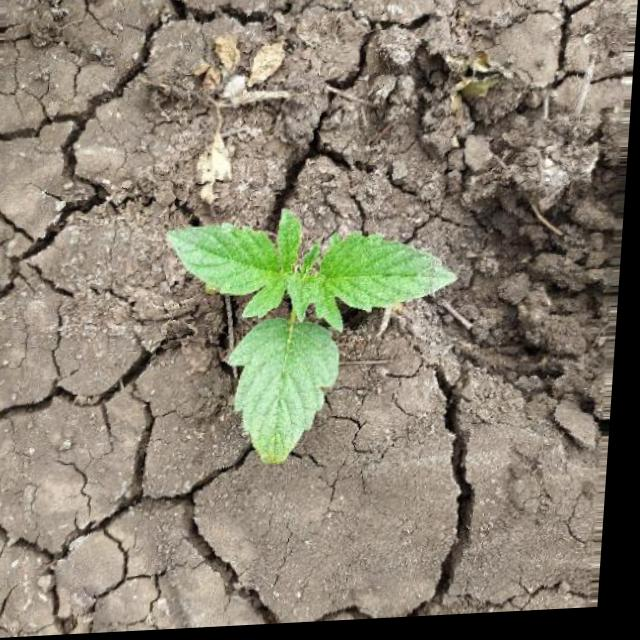crop: (154, 192, 468, 479)
